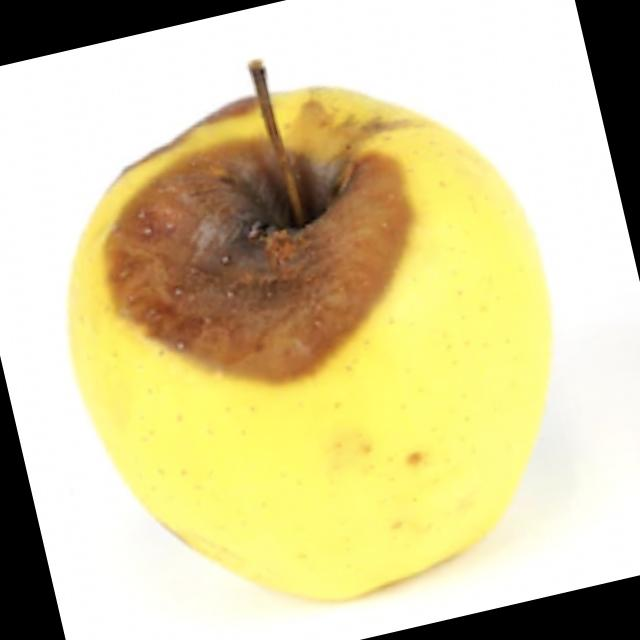rotten_apple: (14, 0, 614, 640)
